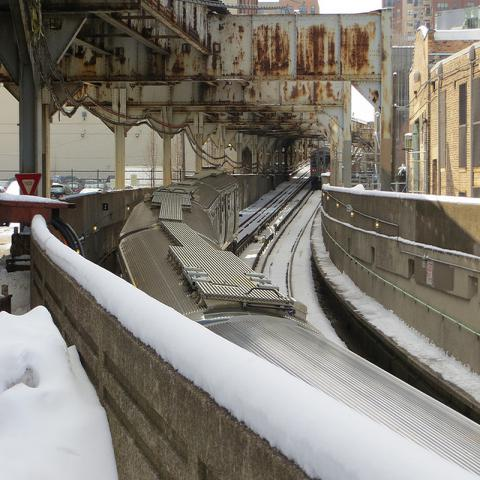car: (50, 184, 76, 198)
